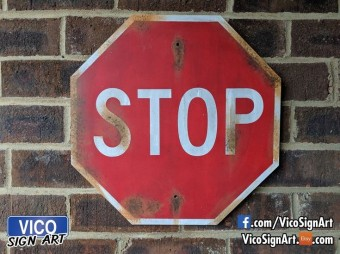SS: (69, 12, 279, 226)
